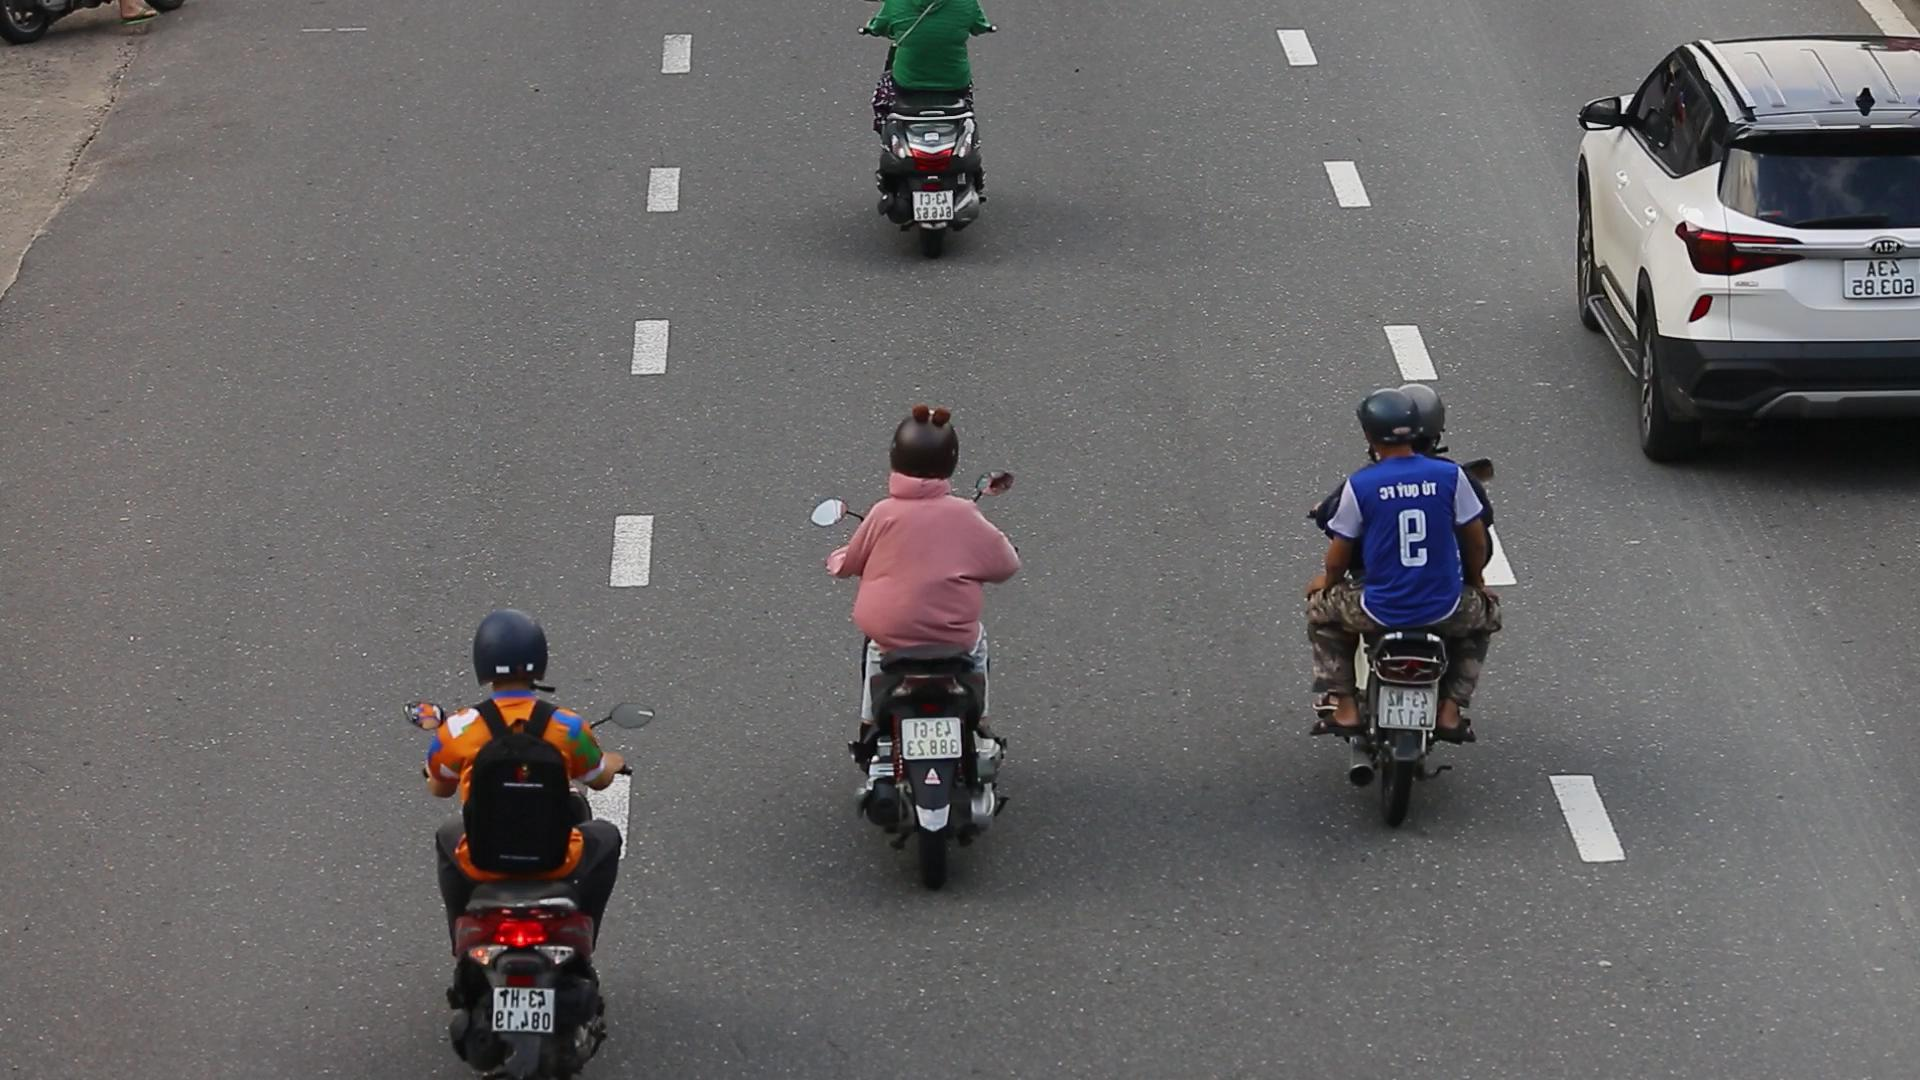motobike: (407, 608, 655, 1080), (810, 407, 1035, 882), (1303, 378, 1506, 829)
